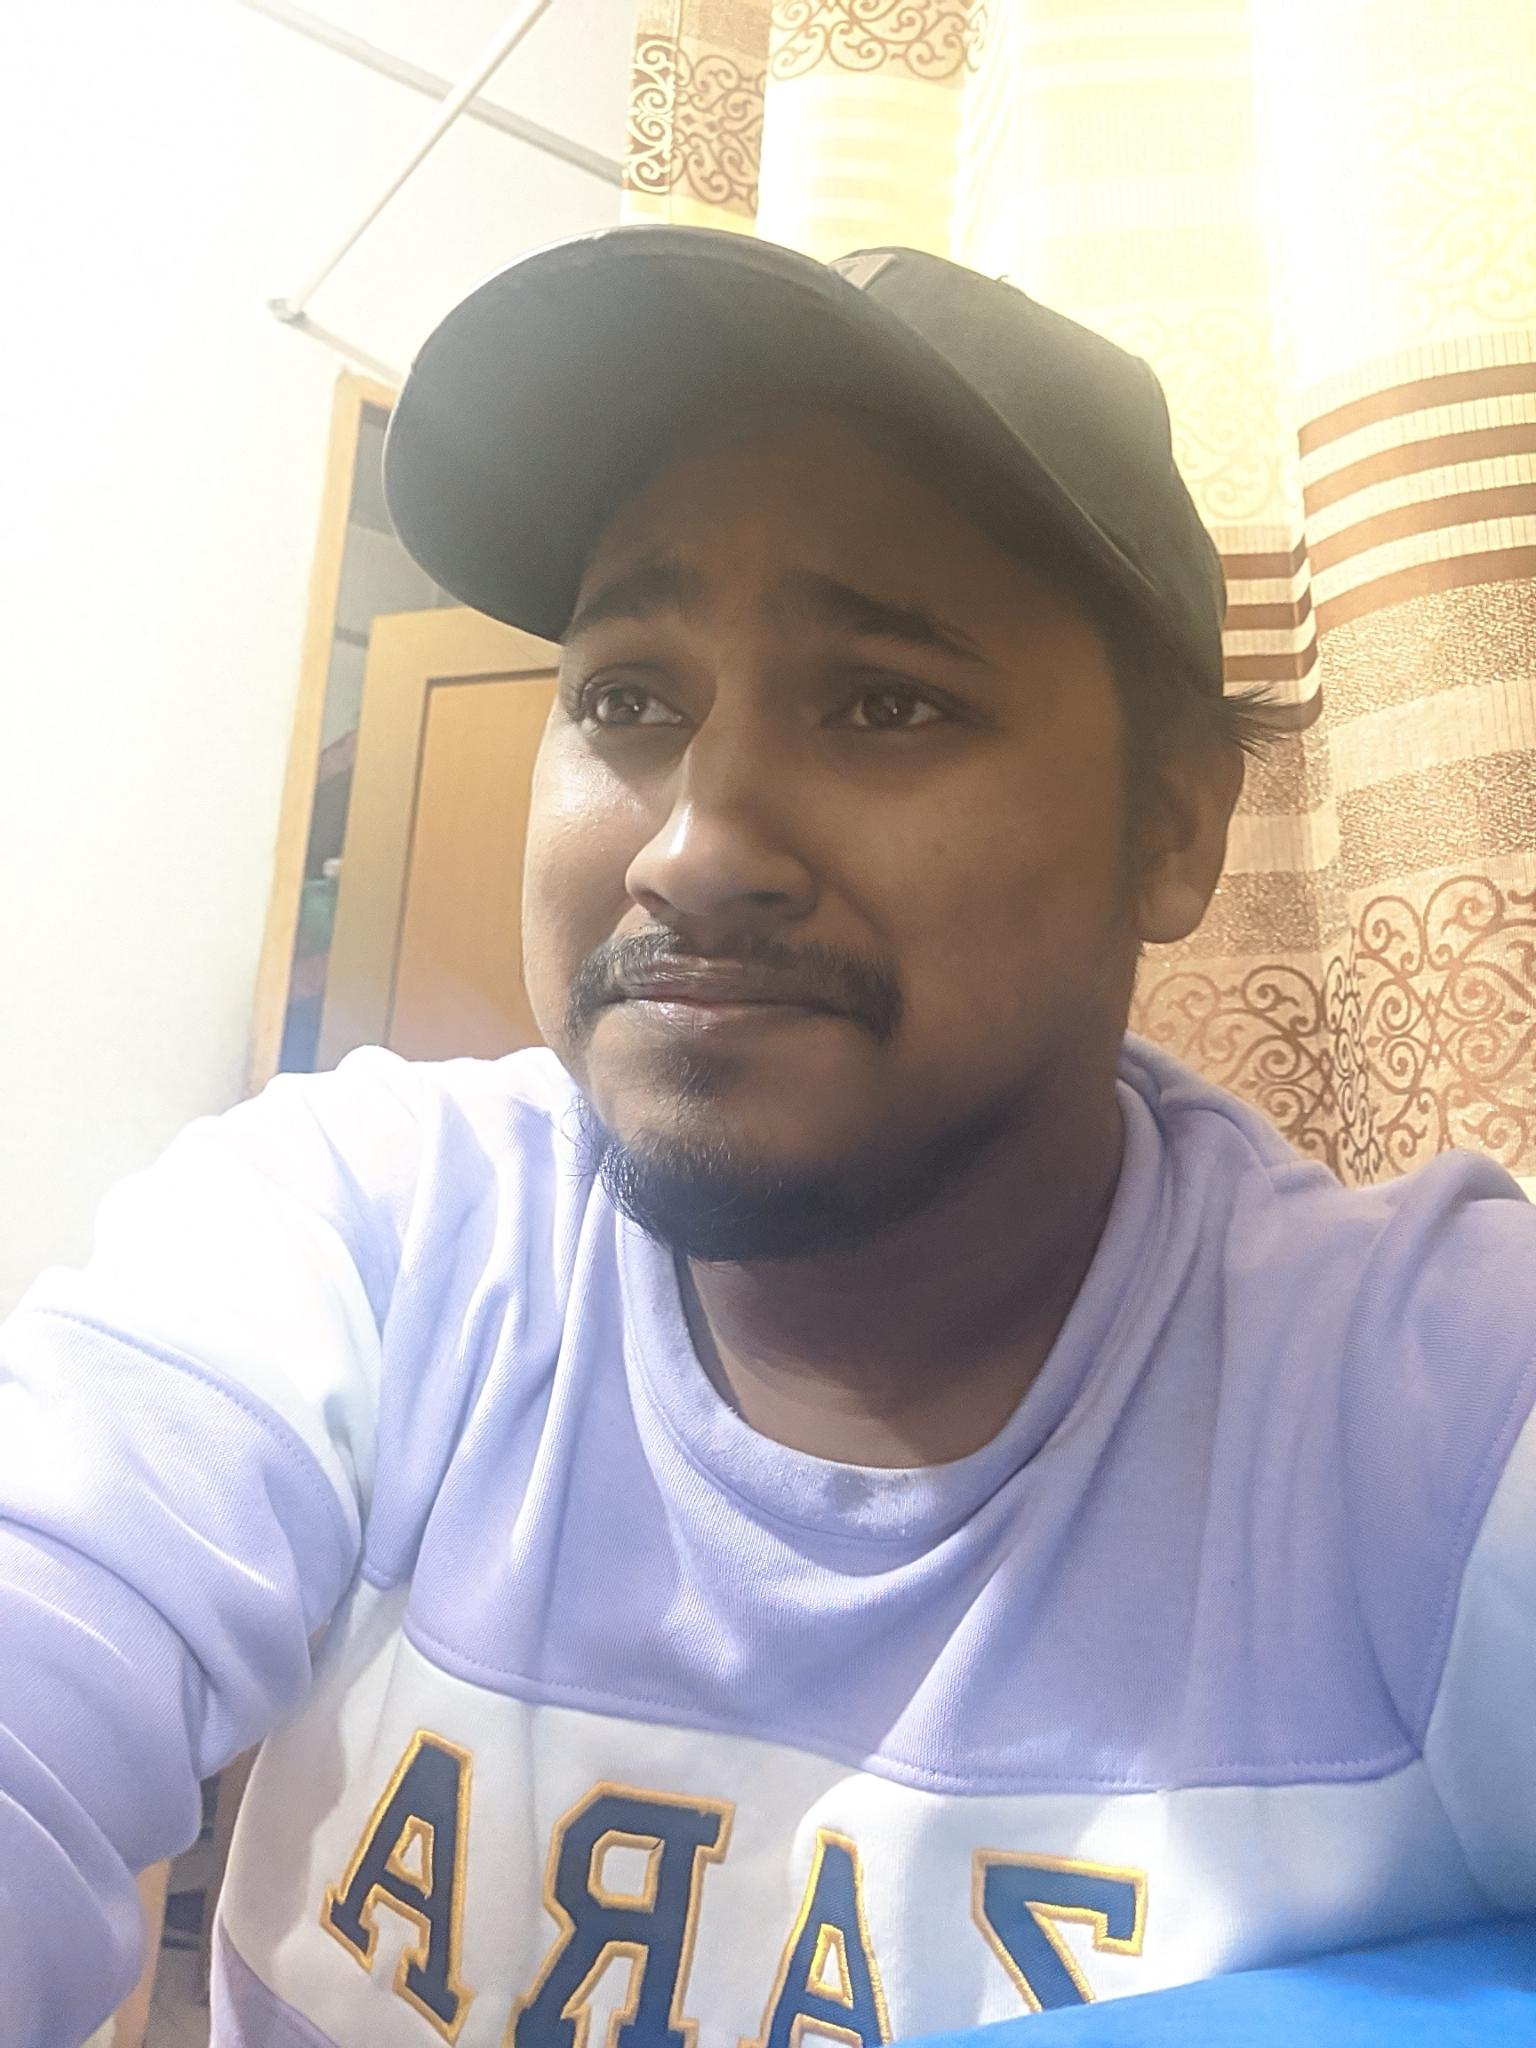Sad: (455, 495, 1052, 1261)
